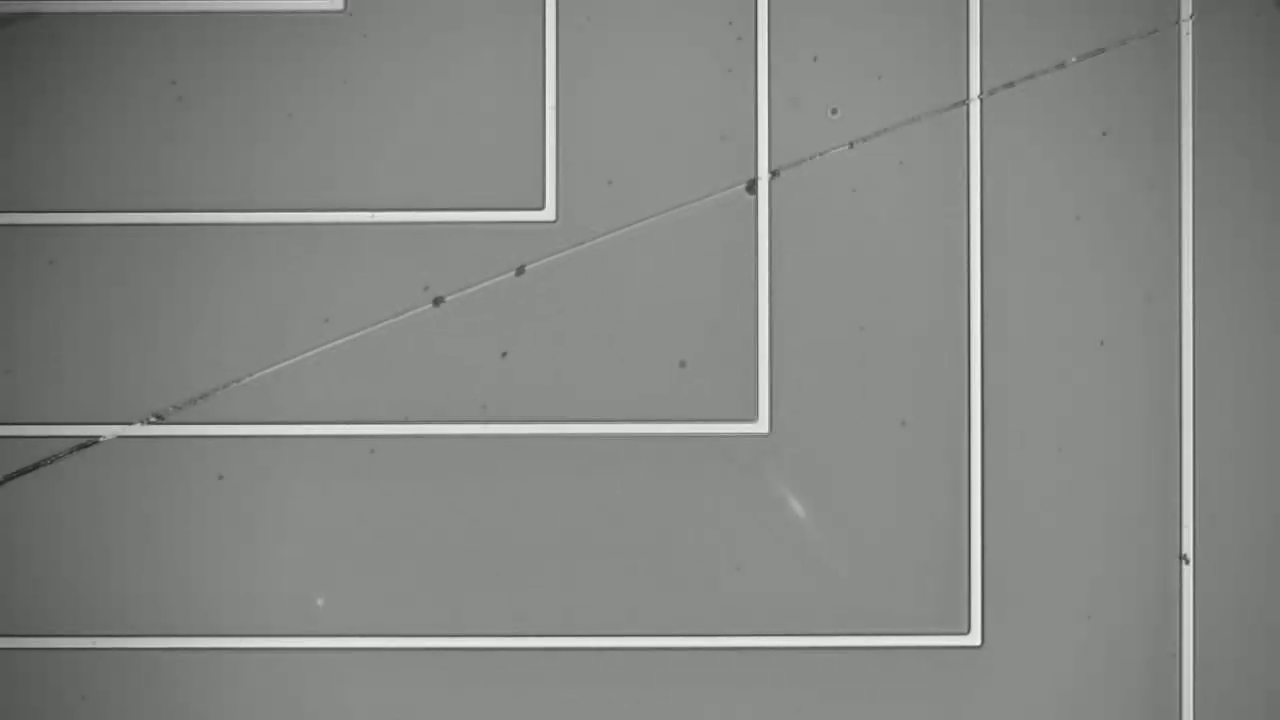scratch: (14, 20, 1185, 485)
stains_enbedded: (1175, 540, 1204, 573)
